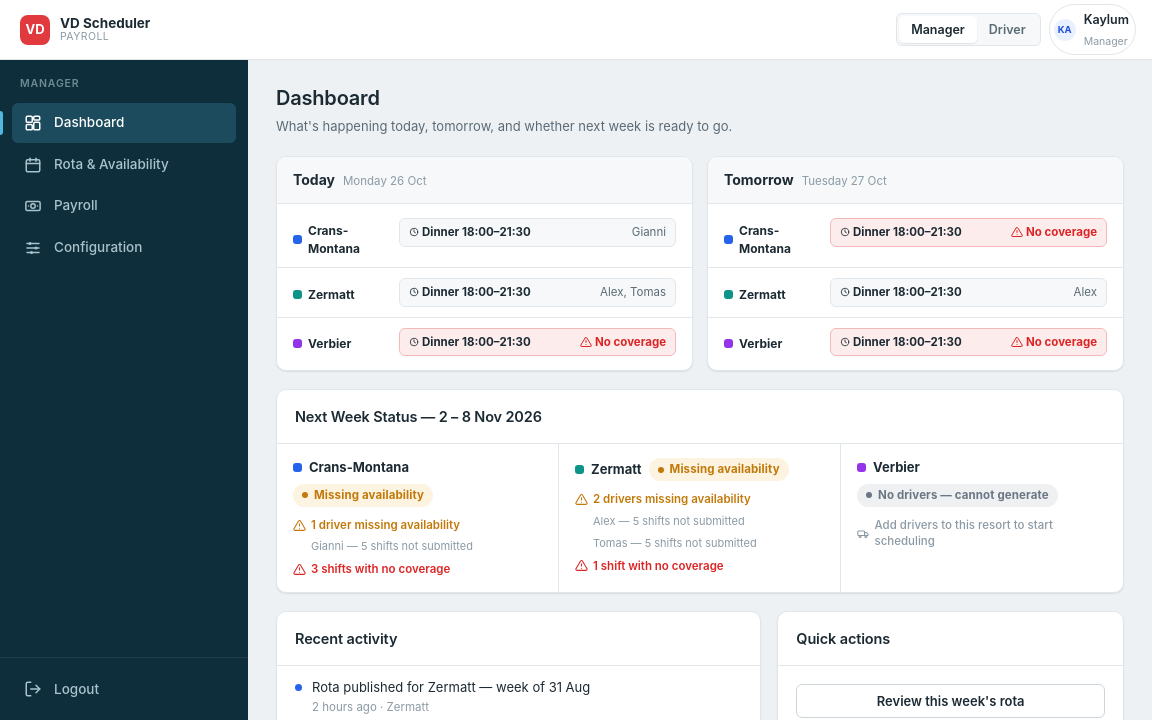
Test: MyRotaPage (live Driver My Rota) › 19. shows "Loading your rota…" while the rota is being read
This screenshot has width=1152, height=720.
Click the tab "Driver": (1007, 30) 977,16 -> 1038,43
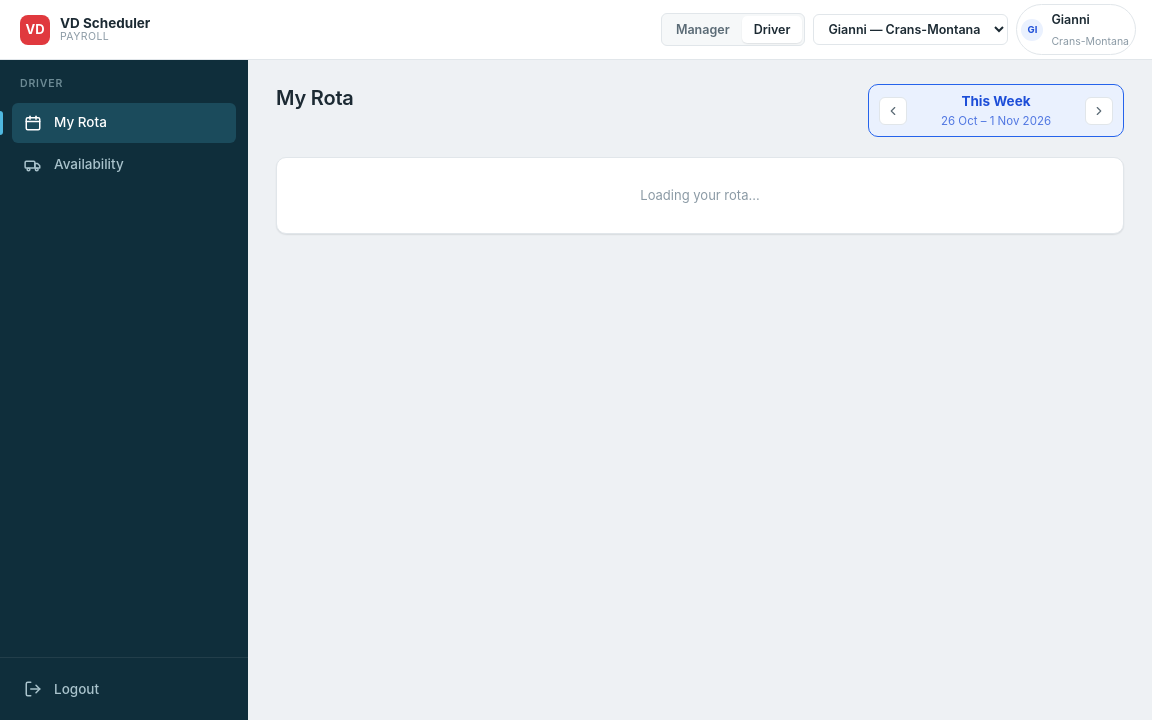
Now the heading "My Rota" is shown, box 276,84 -> 354,113
Now the message reads "Loading your rota…", box 640,187 -> 760,203
